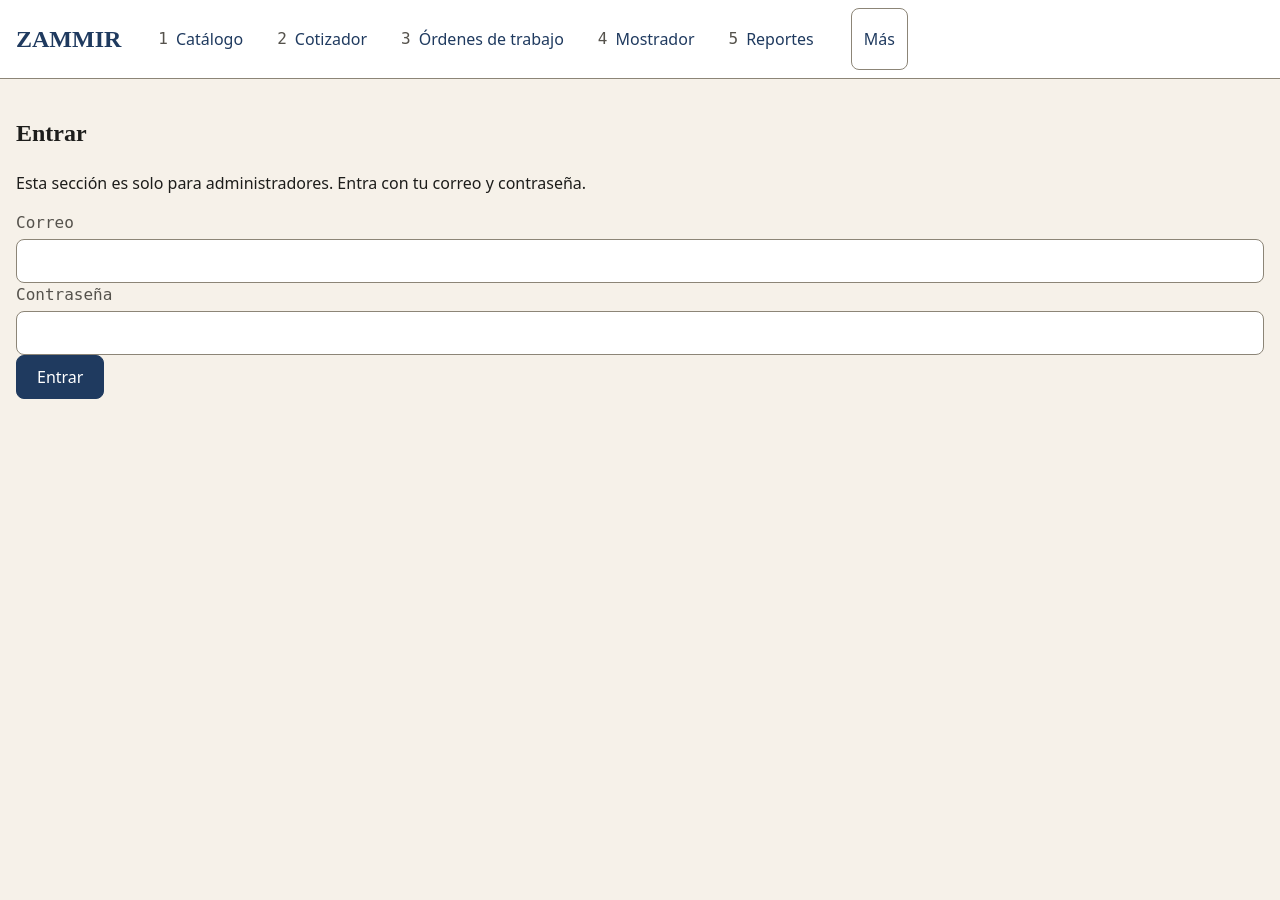
Test: pantalla de bitácora › filtra por acción
Type "a@ejemplo.invalid" into the field labelled "Correo" at (640, 261), box x1=16 y1=239 x2=1264 y2=283
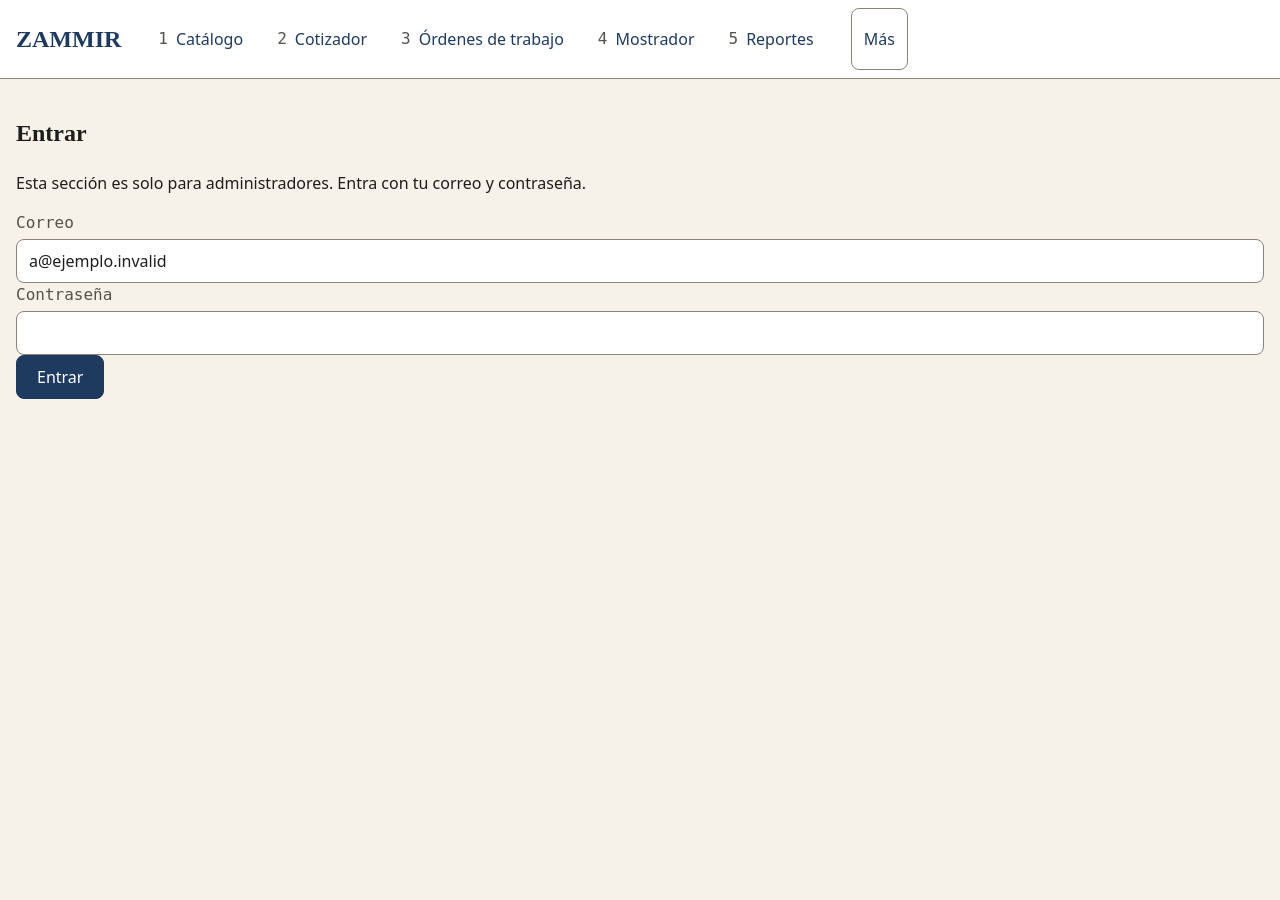
Type "clave-de-prueba-1" into the password field labelled "Contraseña" at (640, 333), box x1=16 y1=311 x2=1264 y2=355
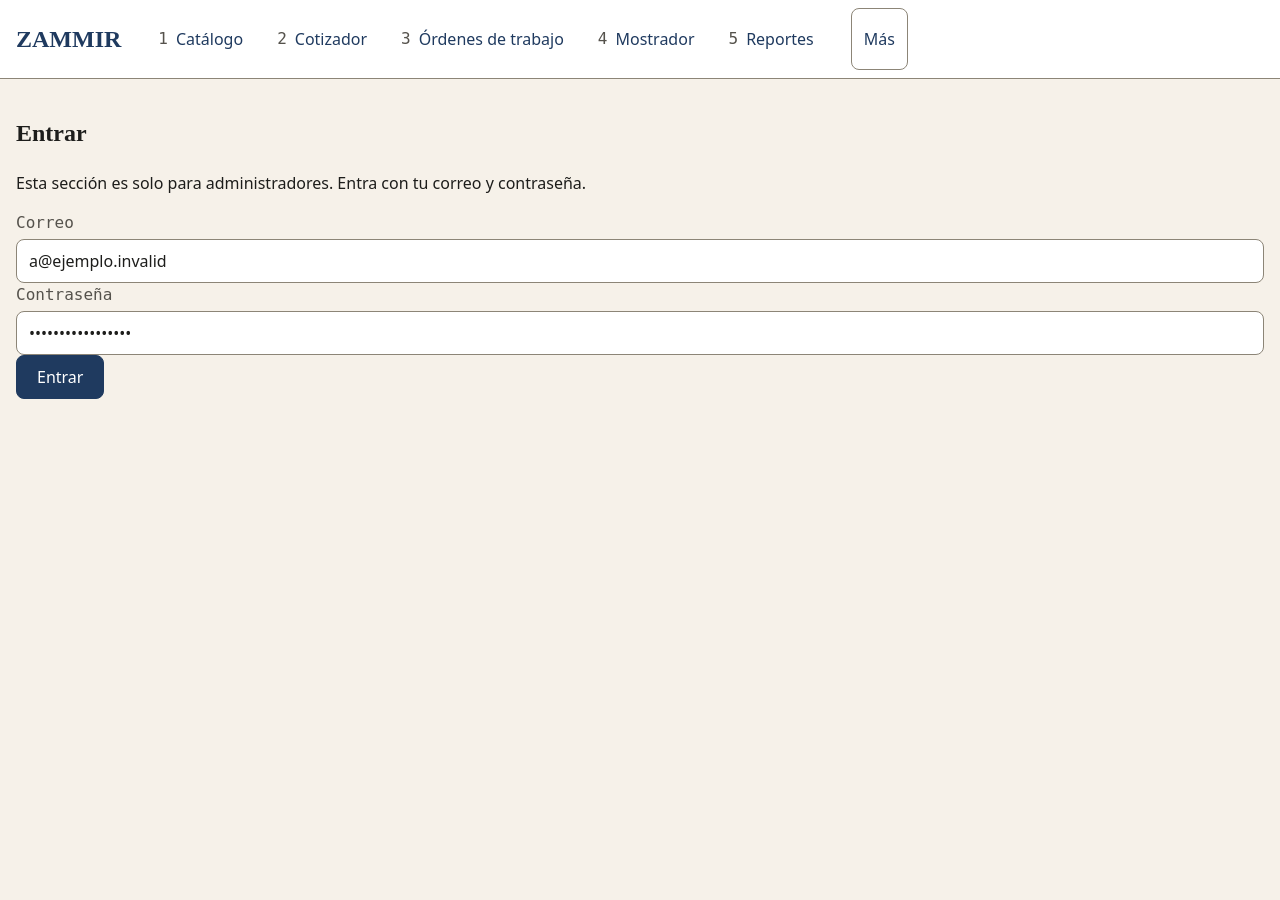
Click the button "Entrar" at (60, 377), box x1=16 y1=355 x2=104 y2=399
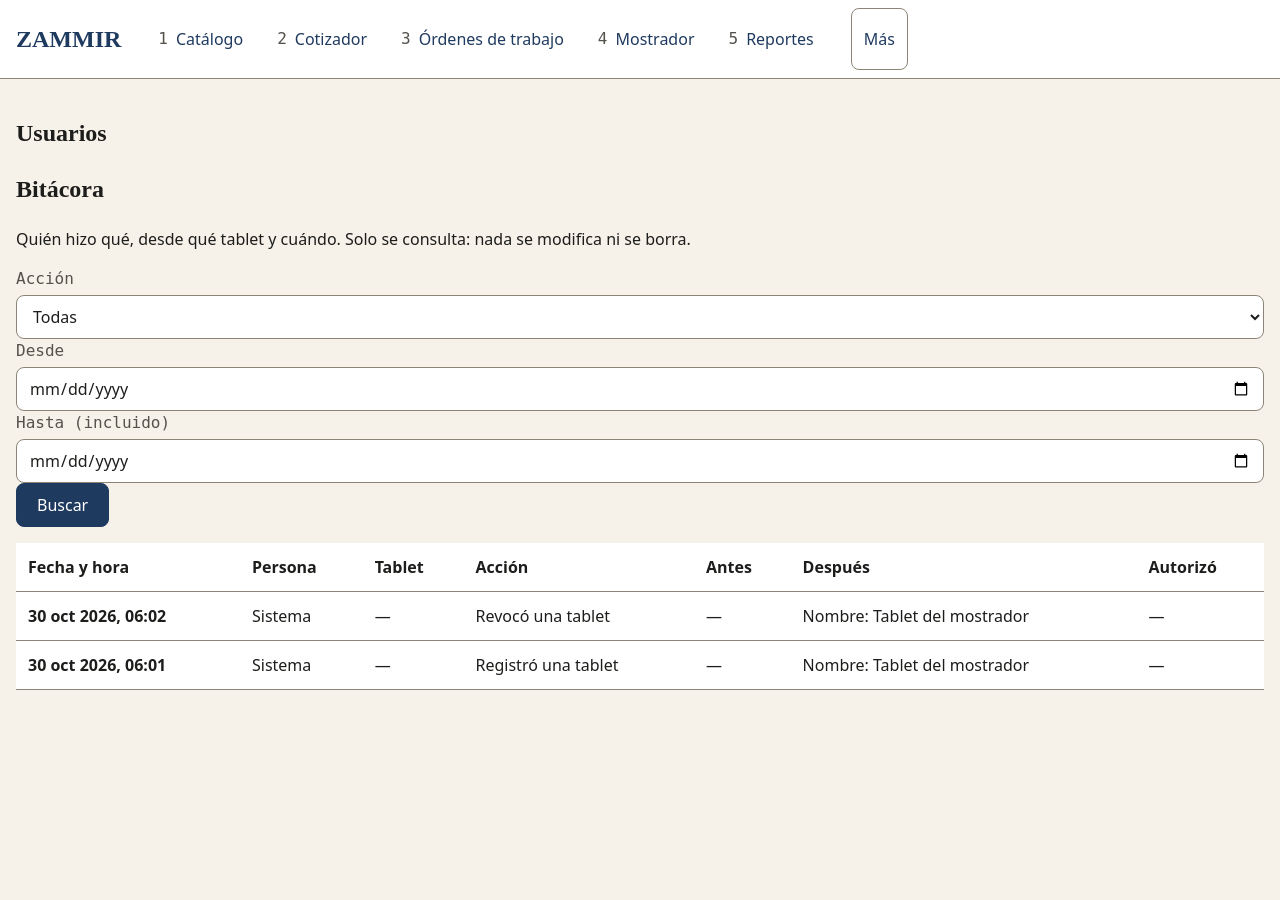
Expected: the text "Registró una tablet" is shown, x1=464 y1=640 x2=694 y2=689
Select "Revocó una tablet" in the dropdown labelled "Acción" at (640, 317), box x1=16 y1=295 x2=1264 y2=339
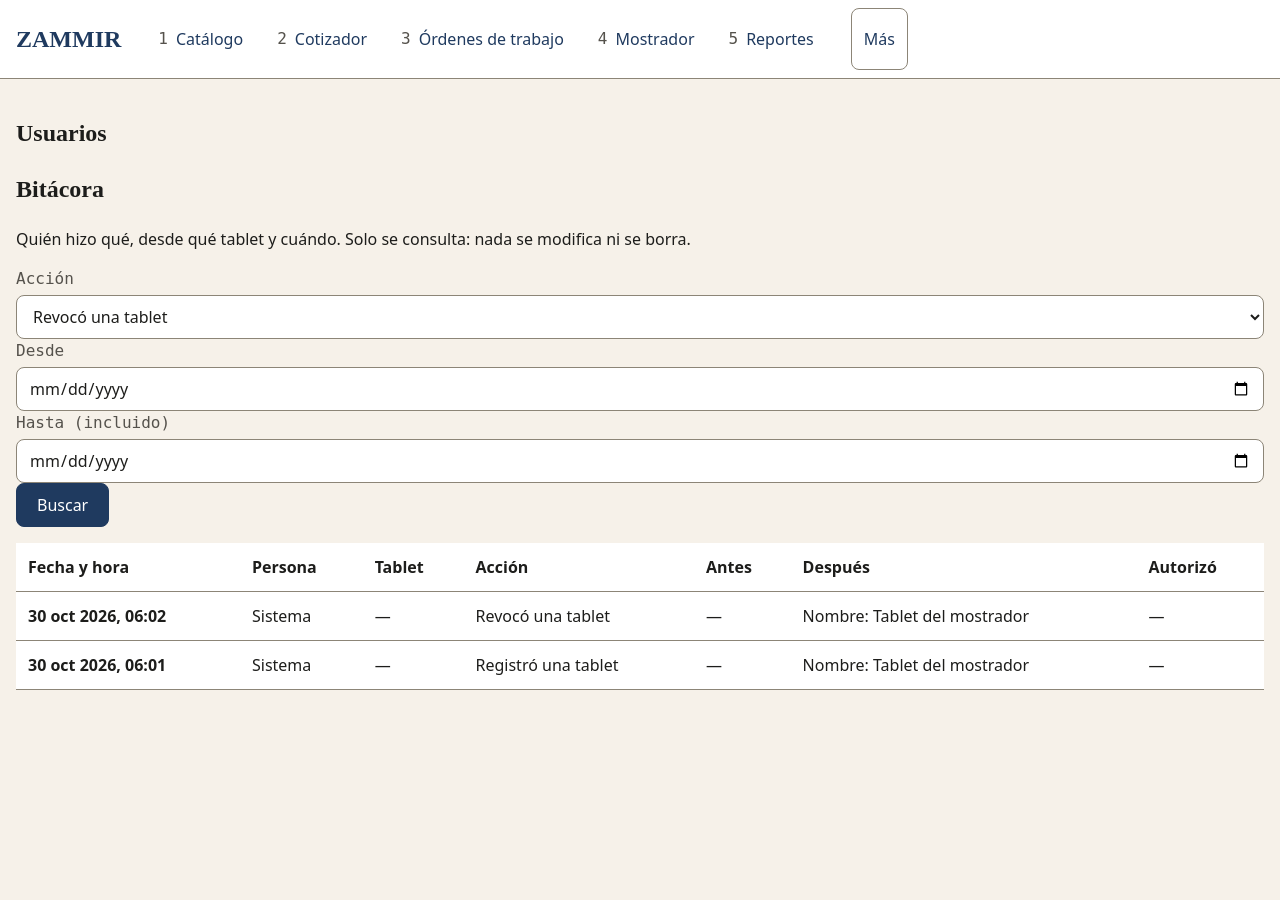
Click the button "Buscar" at (63, 505), box x1=16 y1=483 x2=109 y2=527
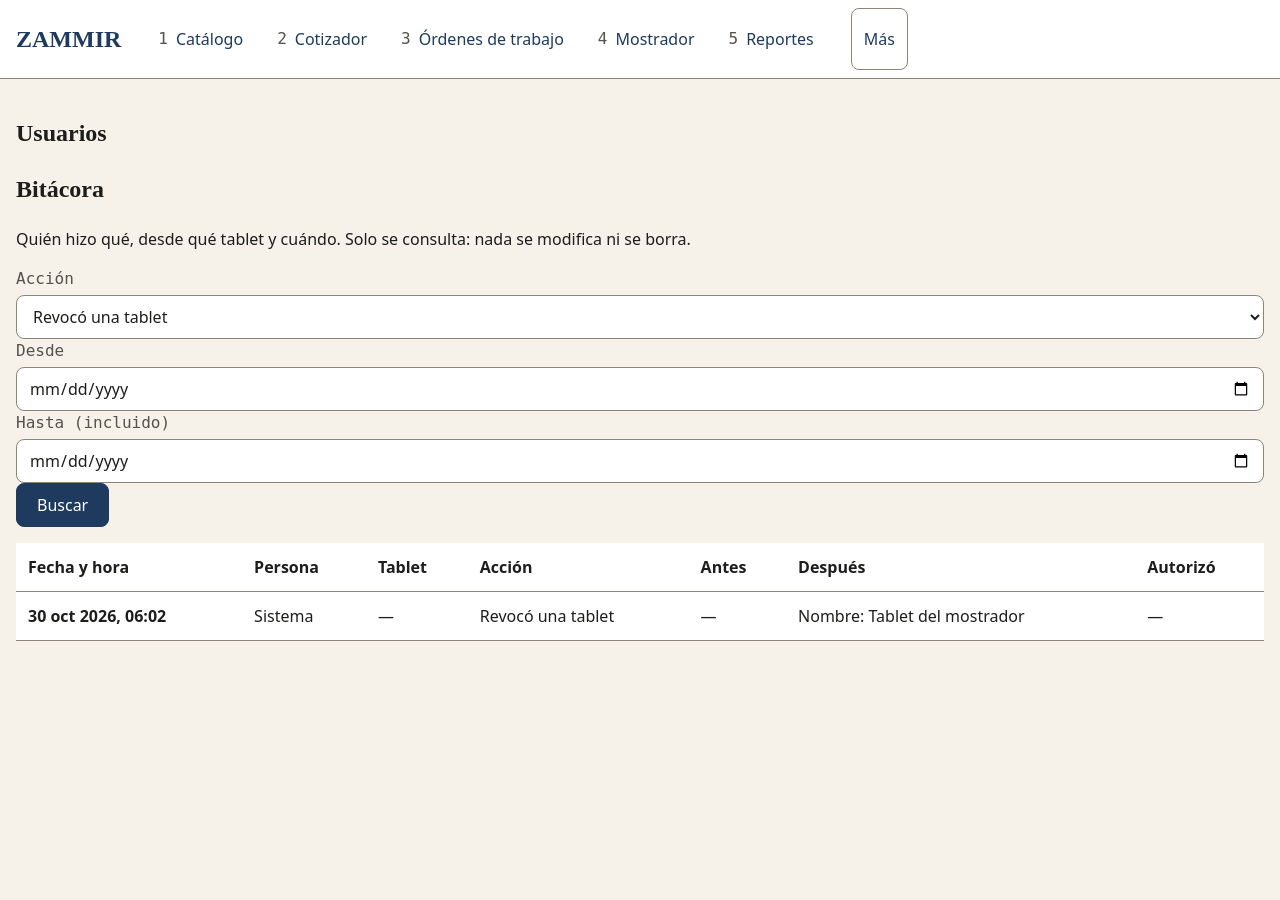
Expected: the text "Revocó una tablet" is shown, x1=468 y1=591 x2=689 y2=640
Expected: the text "Registró una tablet" is gone
